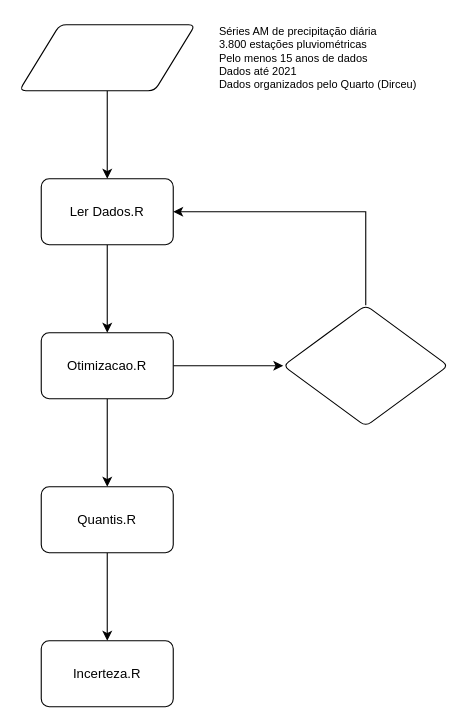
Some shapes in this 468 by 726 pixel diagram are drawn without their labels. Each missing label, with the box of its shape:
df.precip.diaria.txt: (18, 24, 195, 91)
max.gl == 1e6 |kappa| > 0.5: (282, 304, 448, 426)
